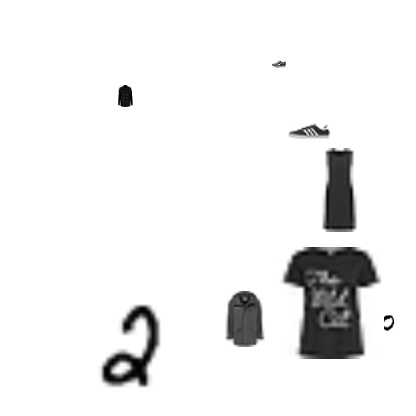0: (376, 311, 398, 333)
2: (75, 294, 187, 406)
Coat: (216, 291, 272, 347), (114, 85, 136, 107)
Dress: (296, 148, 380, 232)
Sneaker: (288, 110, 330, 152), (272, 57, 286, 71)
T-shirt/top: (272, 247, 384, 359)
